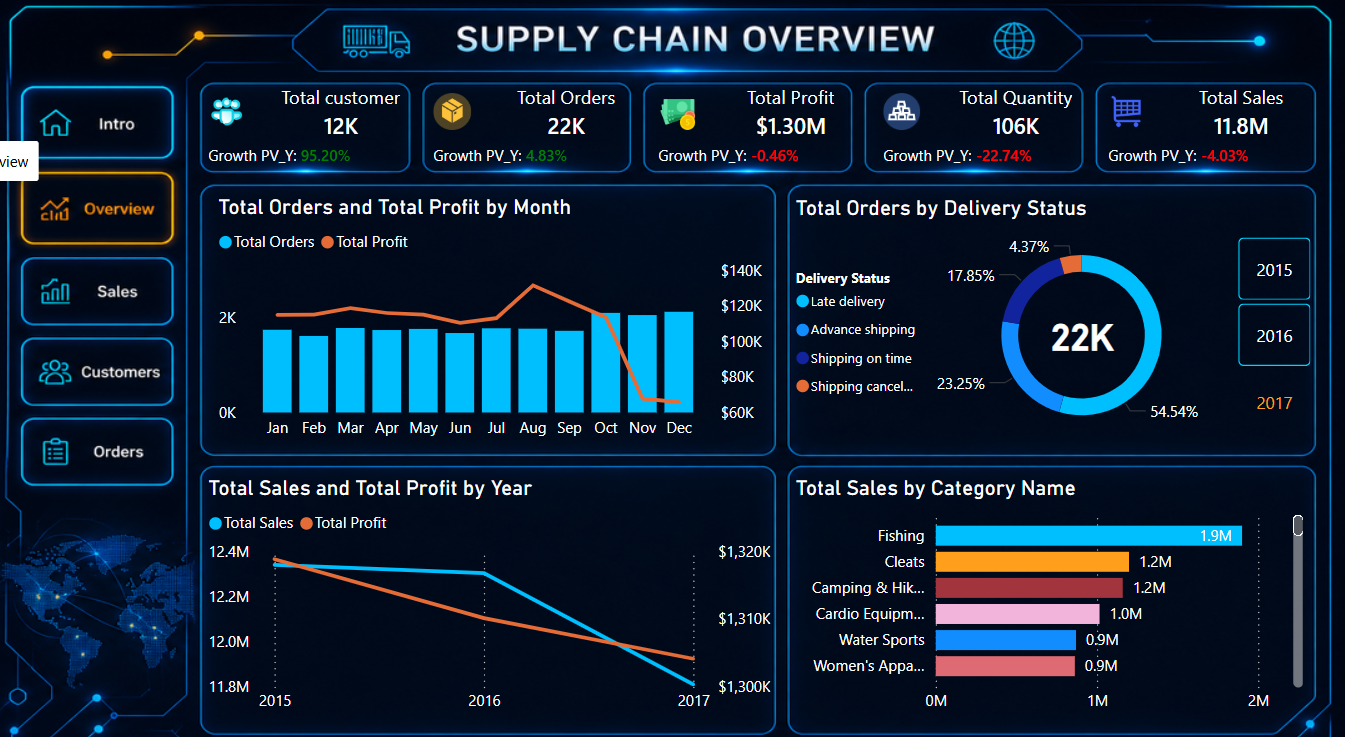

Layout of this report page (visuals, bound fields, positions):
{"tool":"powerbi","page":{"name":"Overview","canvas":[1080,630],"ordinal":1},"visuals":[{"type":"lineClusteredColumnComboChart","fields":{"Y2":["measures (2).Total Profit"],"Y":["measures (2).Total Orders"],"Category":["DimDate.Month"]},"box":[173,156,445,205],"z":0},{"type":"lineChart","fields":{"Y":["measures (2).Total Sales"],"Y2":["measures (2).Total Profit"],"Category":["DimDate.Year"]},"box":[165,381,460,199],"z":1000},{"type":"barChart","fields":{"Category":["Dim product.Category Name"],"Y":["measures (2).Total Sales"]},"box":[635,381,416,199],"z":2000},{"type":"donutChart","fields":{"Y":["measures (2).Total Orders"],"Category":["Dim Delivery status.Delivery Status"]},"box":[635,157,362,205],"z":3000},{"type":"advancedSlicerVisual","fields":{"Values":["DimDate.Year"]},"box":[989,186,68,168],"z":4000},{"type":"actionButton","box":[23,74,116,52],"z":5000},{"type":"actionButton","box":[23,208,116,52],"z":6000},{"type":"actionButton","box":[23,270,116,52],"z":7000},{"type":"actionButton","box":[23,336,116,52],"z":8000},{"type":"cardVisual","fields":{"Data":["measures (2).Total customer","measures (2).Total Orders","measures (2).Total Profit","measures (2).Total Quantity","measures (2).Total Sales"]},"box":[153,52,927,120],"z":9000},{"type":"card","fields":{"Values":["measures (2).Total Orders"]},"box":[823,229,92,80],"z":10000}]}

Visuals, with their boxes on the page's 1080x630 design canvas (x1, y1, x2, y2). These are canvas units, not pixel positions in the 1345x737 screenshot, which may show the page scaled, cropped or inside an application window:
lineClusteredColumnComboChart - measures (2).Total Profit x measures (2).Total Orders: {"x1": 173, "y1": 156, "x2": 618, "y2": 361}
lineChart - measures (2).Total Sales x measures (2).Total Profit: {"x1": 165, "y1": 381, "x2": 625, "y2": 580}
barChart - Dim product.Category Name x measures (2).Total Sales: {"x1": 635, "y1": 381, "x2": 1051, "y2": 580}
donutChart - measures (2).Total Orders x Dim Delivery status.Delivery Status: {"x1": 635, "y1": 157, "x2": 997, "y2": 362}
advancedSlicerVisual - DimDate.Year: {"x1": 989, "y1": 186, "x2": 1057, "y2": 354}
actionButton: {"x1": 23, "y1": 74, "x2": 139, "y2": 126}
actionButton: {"x1": 23, "y1": 208, "x2": 139, "y2": 260}
actionButton: {"x1": 23, "y1": 270, "x2": 139, "y2": 322}
actionButton: {"x1": 23, "y1": 336, "x2": 139, "y2": 388}
cardVisual - measures (2).Total customer x measures (2).Total Orders: {"x1": 153, "y1": 52, "x2": 1080, "y2": 172}
card - measures (2).Total Orders: {"x1": 823, "y1": 229, "x2": 915, "y2": 309}
